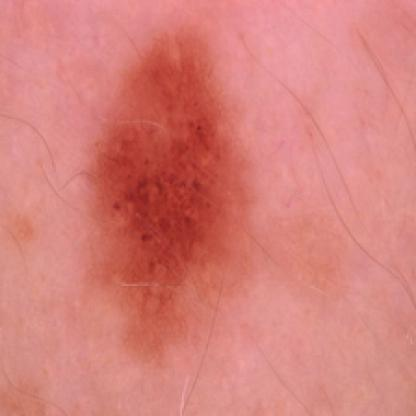benign: (95, 28, 243, 340)
